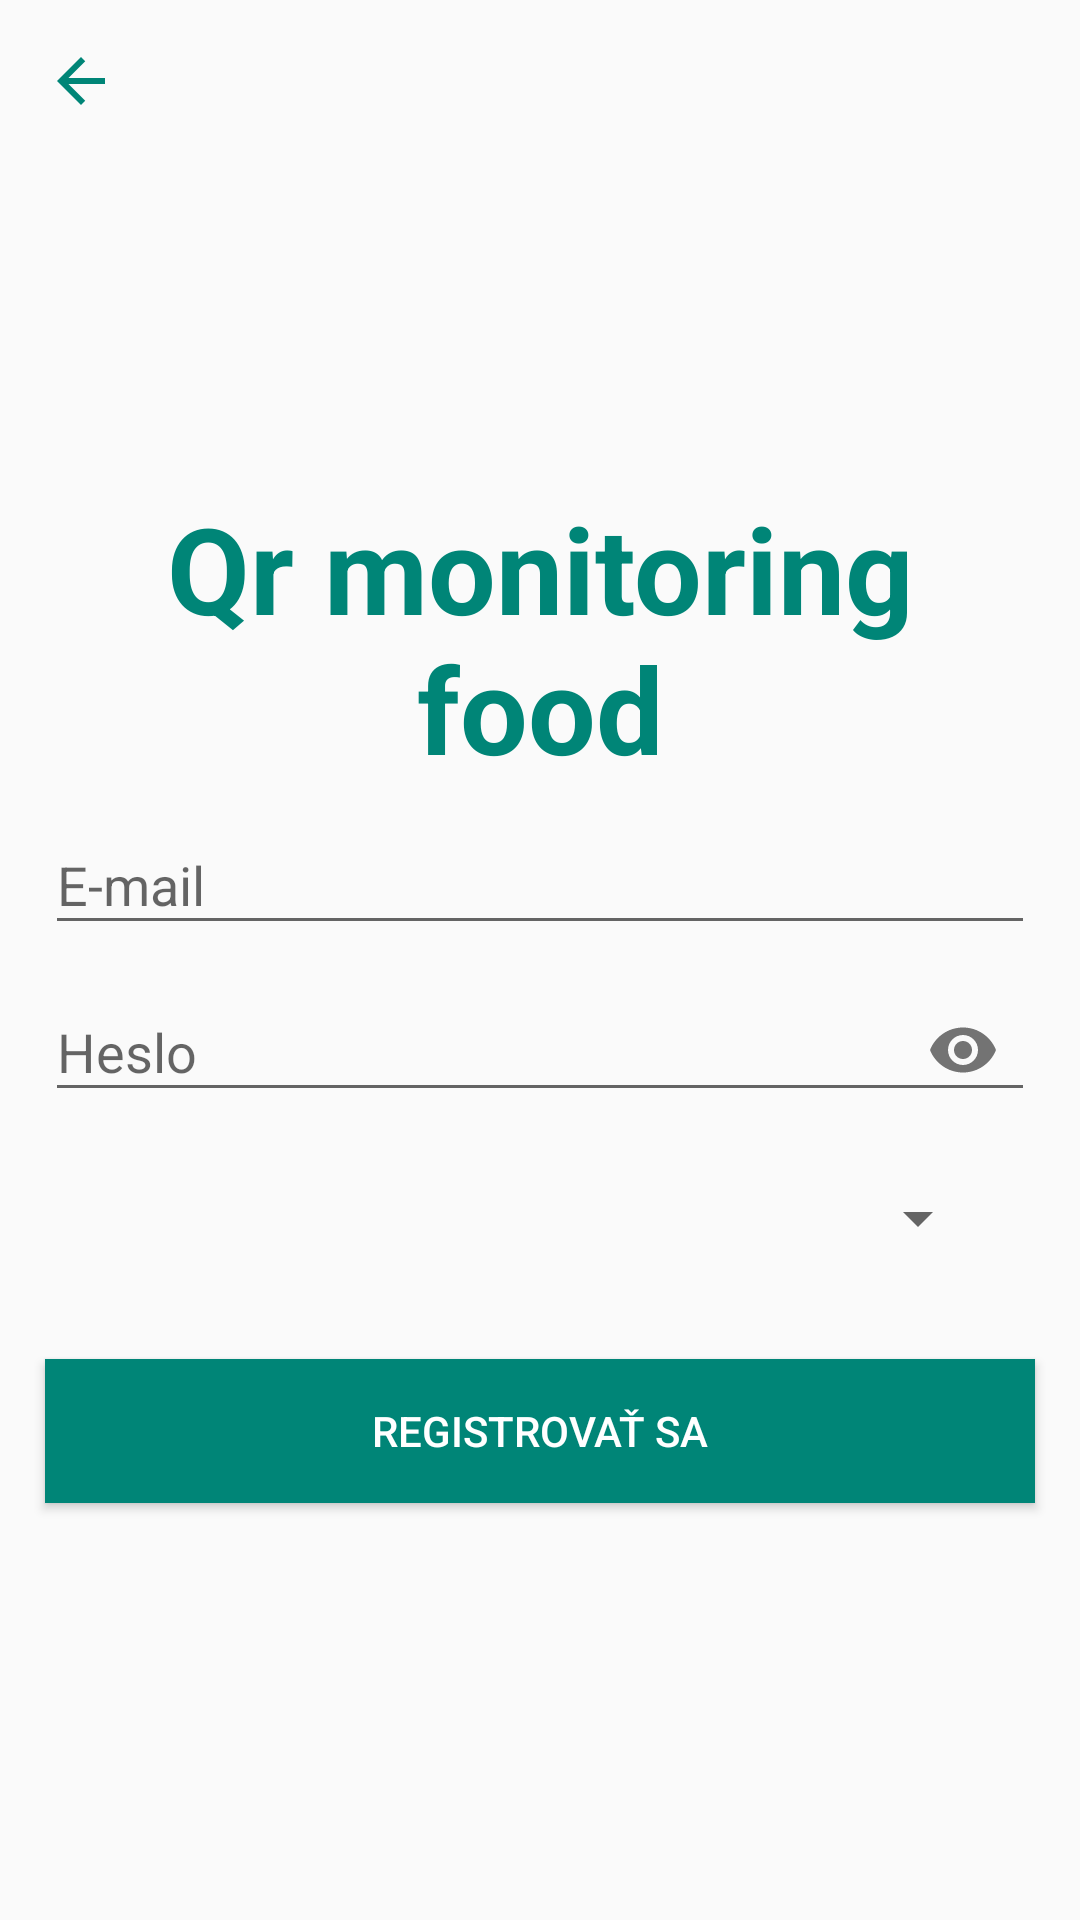

Icon click points for this 1080×1920 phone screenshot, format [x,y]:
Späť: [81,81]
